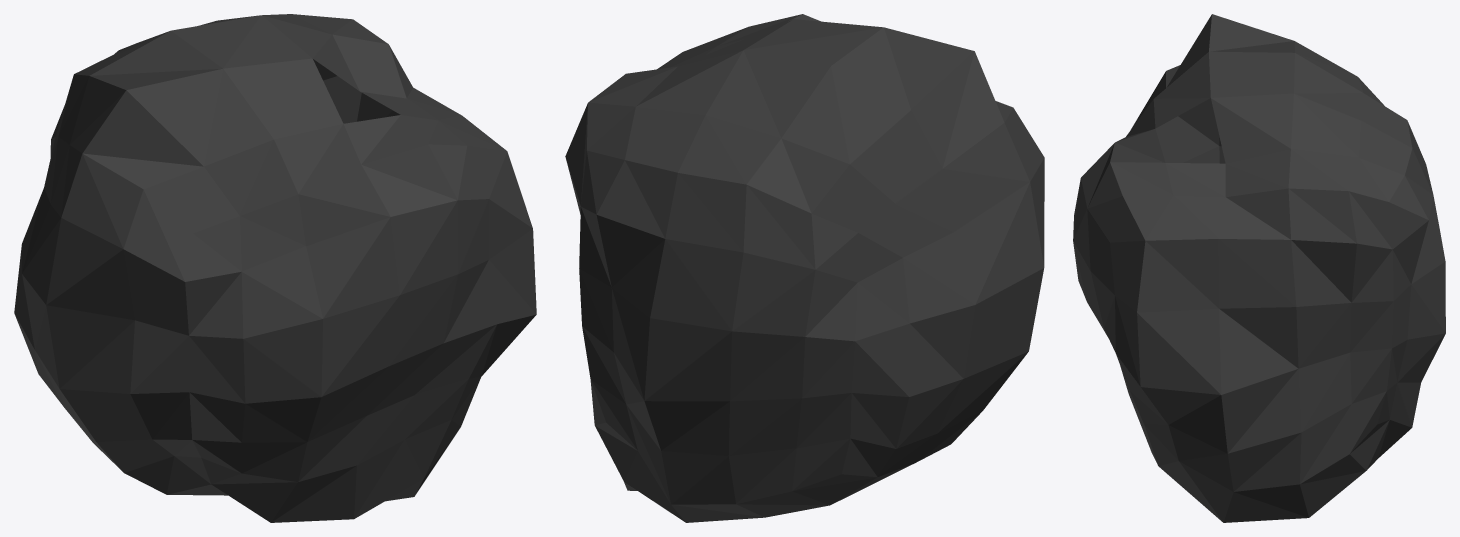
File: asteroid.obj
3 renders of one model, left to right at view 1: azimuth 30°, elevation 25°; view 2: azimuth 150°, elevation 25°; view 3: azimuth 270°, elevation 25°, orthographic. The views are drawn at different scales.
Parts seen in each view (by area): view 1: Object.1; view 2: Object.1; view 3: Object.1.
Boxes of the visible parts, <box> form: Object.1: <box>14,14,536,522</box>; Object.1: <box>565,14,1044,522</box>; Object.1: <box>1073,14,1445,522</box>.
Bounding box in the file's own units: 65.63 × 66.61 × 57.37.
